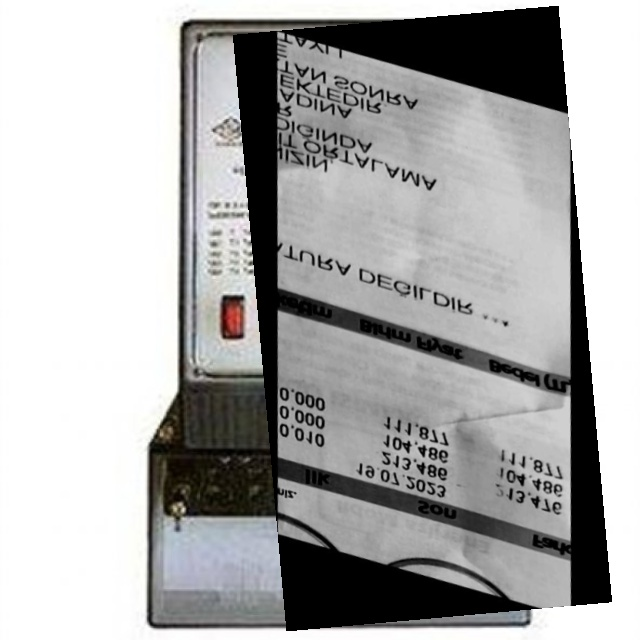electricity-bill: (233, 6, 611, 630)
